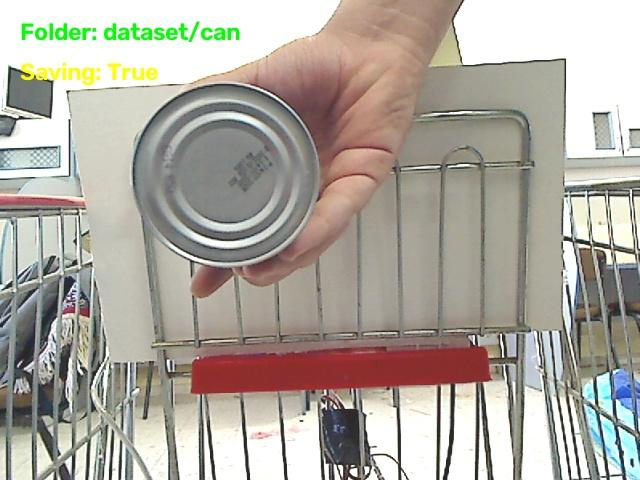can: (132, 82, 319, 266)
